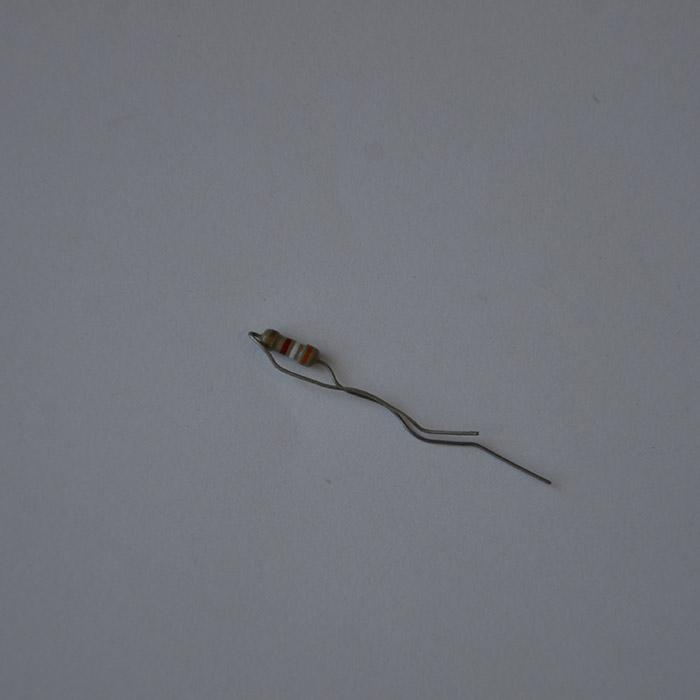resistor: (254, 328, 321, 367)
